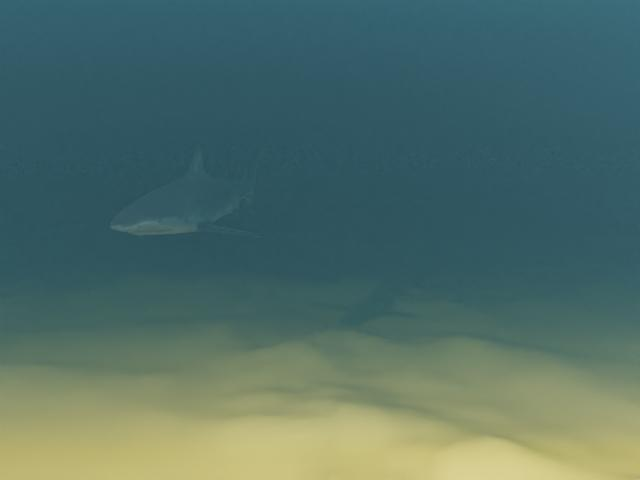Carribean Shark.001: (109, 139, 275, 237)
